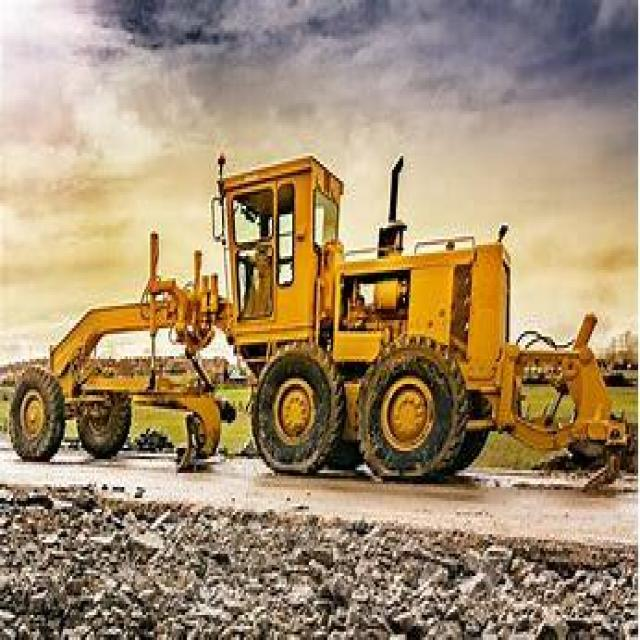Grader: (4, 145, 618, 498)
